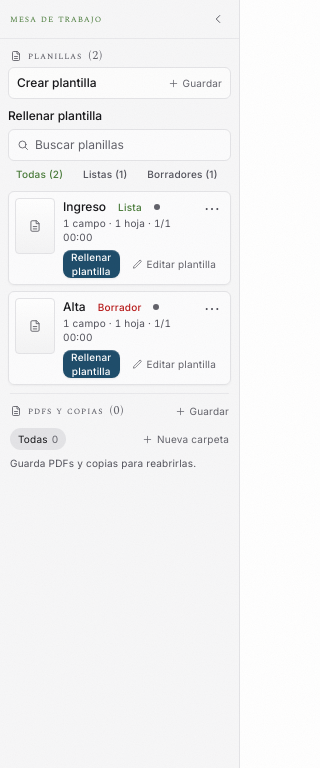
Test: <WorkspacePanel /> · planillas › filtra planillas por estado con chips y muestra el badge de borrador
The image size is (320, 768).
Expected: the button "Listas (1)" is shown, [75,165,135,183]
Click the button "Borradores (1)" at {"x": 182, "y": 174}, box [139,165,226,183]
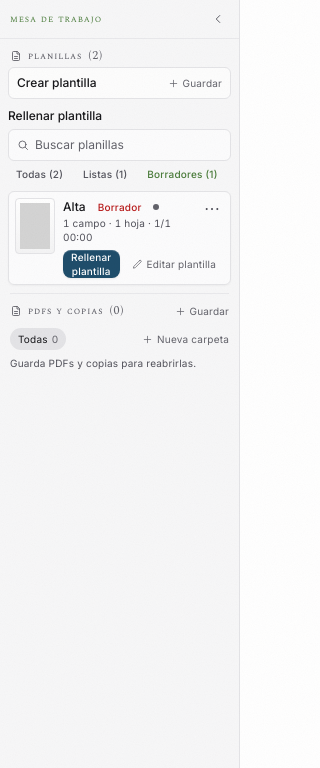
Expected: the text "Alta" is shown, [63,198,86,216]
Now the text "Ingreso" is gone
